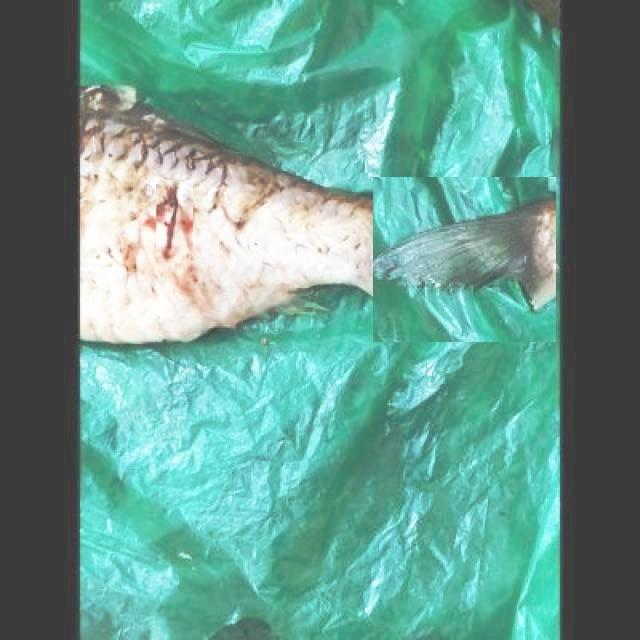Aeromonas Septicemia: (79, 86, 373, 348)
